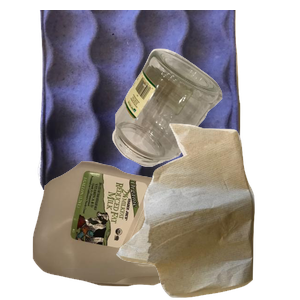glass: (110, 46, 300, 205)
paper: (35, 10, 268, 190)
plastic: (30, 159, 247, 300)
trash: (114, 121, 300, 300)
